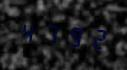four: (18, 16, 39, 47)
nine: (62, 19, 83, 51)
seven: (40, 18, 61, 49)
two: (84, 21, 105, 53)
